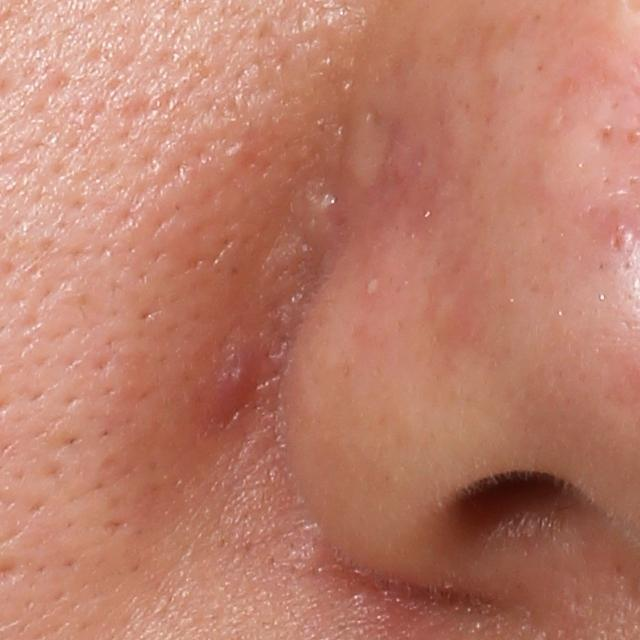hypertrophic_scar: (254, 176, 340, 318), (541, 83, 618, 204), (338, 94, 390, 188)
papule: (200, 337, 261, 433)
